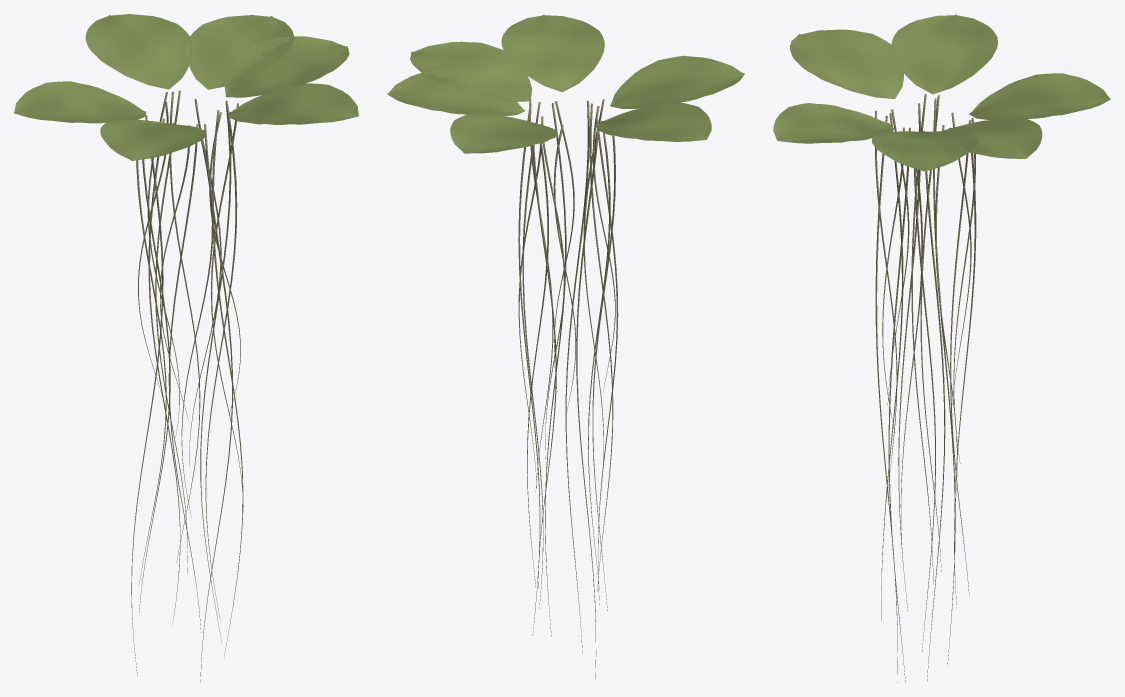
File: frogbit-mobile.glb
3 views of the same model, side by side, from view 1: azimuth 30°, elevation 25°; view 2: azimuth 150°, elevation 25°; view 3: azimuth 270°, elevation 25° (orthographic). The views are drawn at different scales.
Parts seen in each view (by area): view 1: floating-leaf, hanging-root; view 2: floating-leaf, hanging-root; view 3: floating-leaf, hanging-root.
Part boxes in pixels (box(x1,y1,x2,y2)): floating-leaf: box(14, 14, 358, 160); hanging-root: box(131, 90, 243, 682); floating-leaf: box(387, 14, 744, 153); hanging-root: box(518, 99, 618, 678); floating-leaf: box(773, 14, 1110, 171); hanging-root: box(874, 94, 976, 682).
Bounding box in the file's own units: 0.4169 × 0.7404 × 0.3803.
